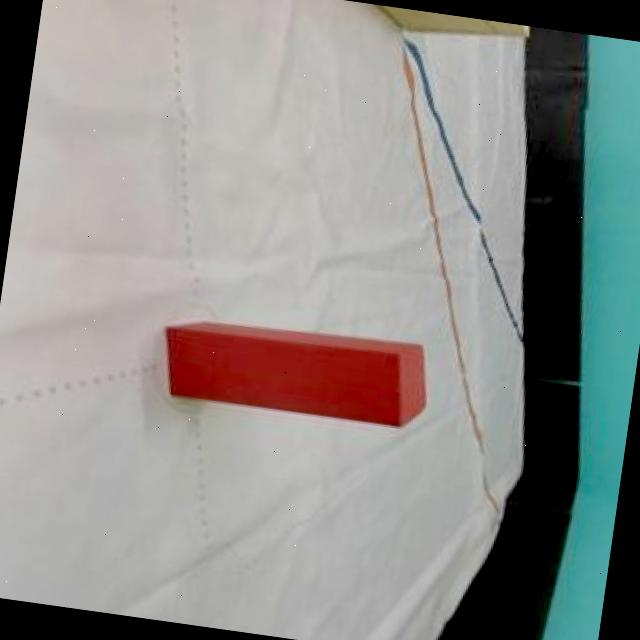redbox: (151, 310, 436, 432)
